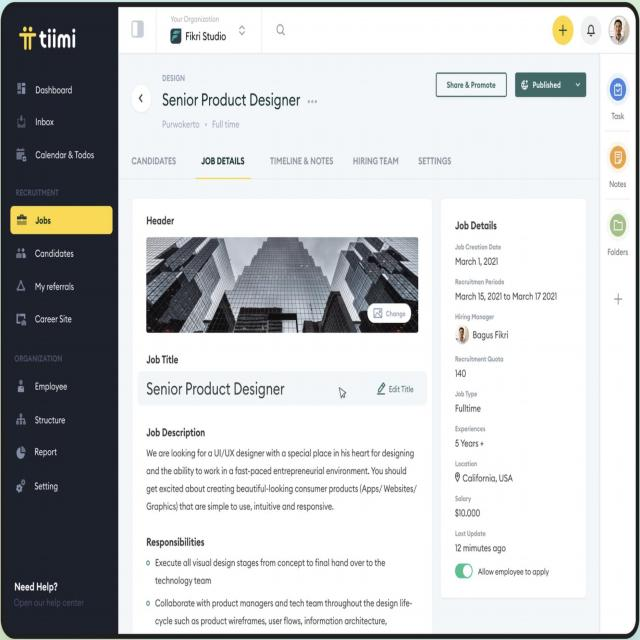button: (436, 72, 508, 97), (367, 303, 412, 323), (132, 84, 152, 114), (610, 287, 626, 311)
select: (514, 72, 586, 97)
